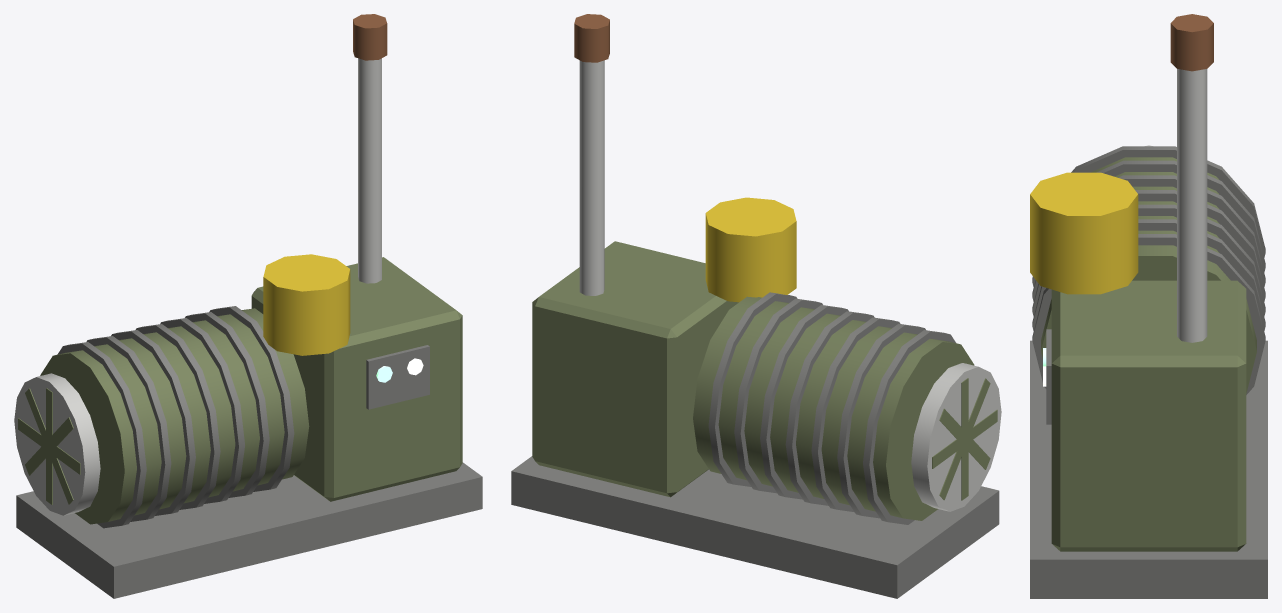
Rendered from bk_generator.glb.
The picture shows the model from 3 angles, left to right: view 1: azimuth 30°, elevation 25°; view 2: azimuth 150°, elevation 25°; view 3: azimuth 270°, elevation 25°; orthographic projection. The views are drawn at different scales.
Visible parts, largest first — view 1: bk_generator, spin0; view 2: bk_generator, spin0; view 3: bk_generator.
Part boxes in pixels (bbox=[...]): bk_generator: bbox=[16, 14, 482, 598]; spin0: bbox=[14, 373, 100, 515]; bk_generator: bbox=[511, 14, 999, 598]; spin0: bbox=[911, 363, 1001, 511]; bk_generator: bbox=[1030, 14, 1267, 598].
Size of the model in its own units: 2.51 by 2.8 by 1.1.
